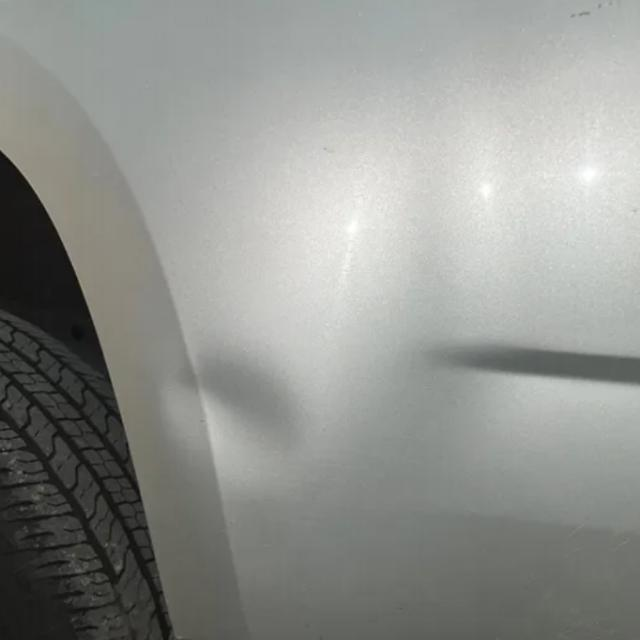dents: (158, 330, 347, 500)
